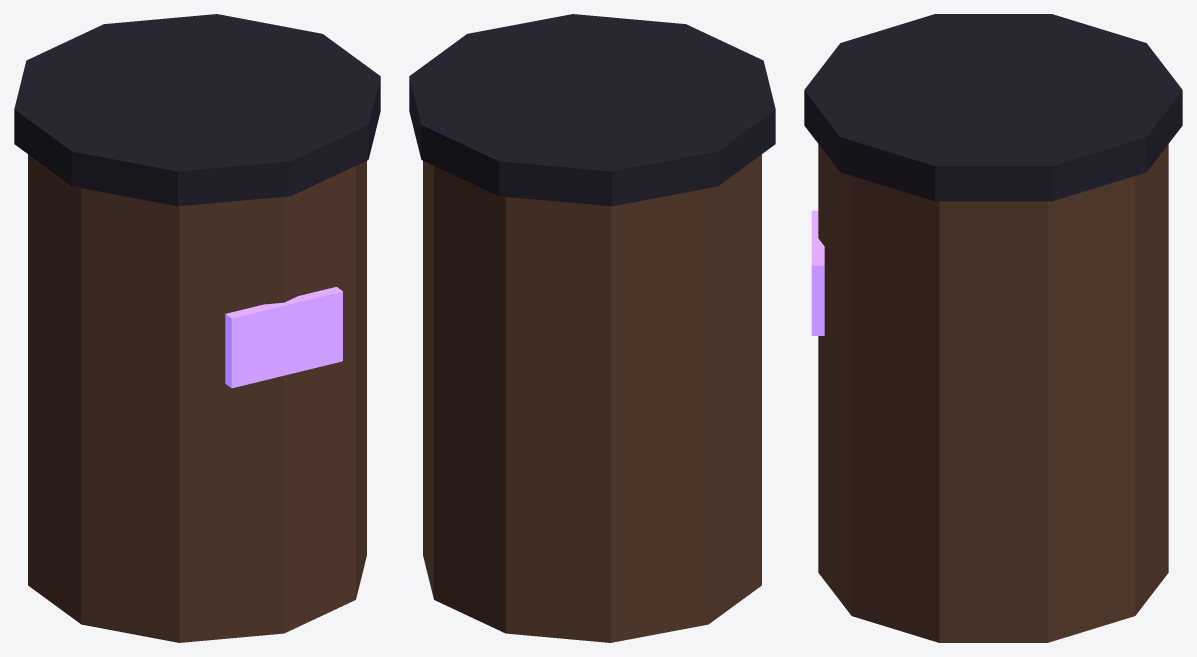
The model's file is trash-bin.glb.
The picture shows the model from 3 angles, left to right: view 1: azimuth 30°, elevation 25°; view 2: azimuth 150°, elevation 25°; view 3: azimuth 270°, elevation 25°; orthographic projection.
Visible parts, largest first — view 1: trash-bin; view 2: trash-bin; view 3: trash-bin.
Part boxes in pixels (x1=…): trash-bin: x1=14, y1=14, x2=380, y2=642; trash-bin: x1=409, y1=14, x2=775, y2=642; trash-bin: x1=804, y1=14, x2=1182, y2=642.
Size of the model in its own units: 0.5547 by 0.82 by 0.5832.
